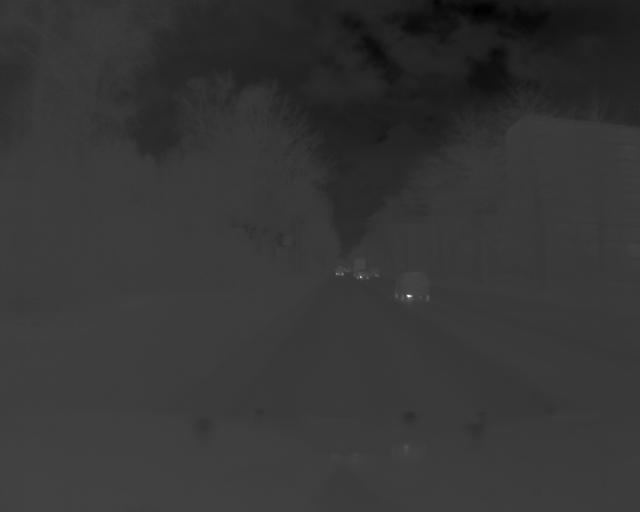car: (395, 270, 434, 305), (334, 264, 347, 281), (355, 270, 370, 282)
